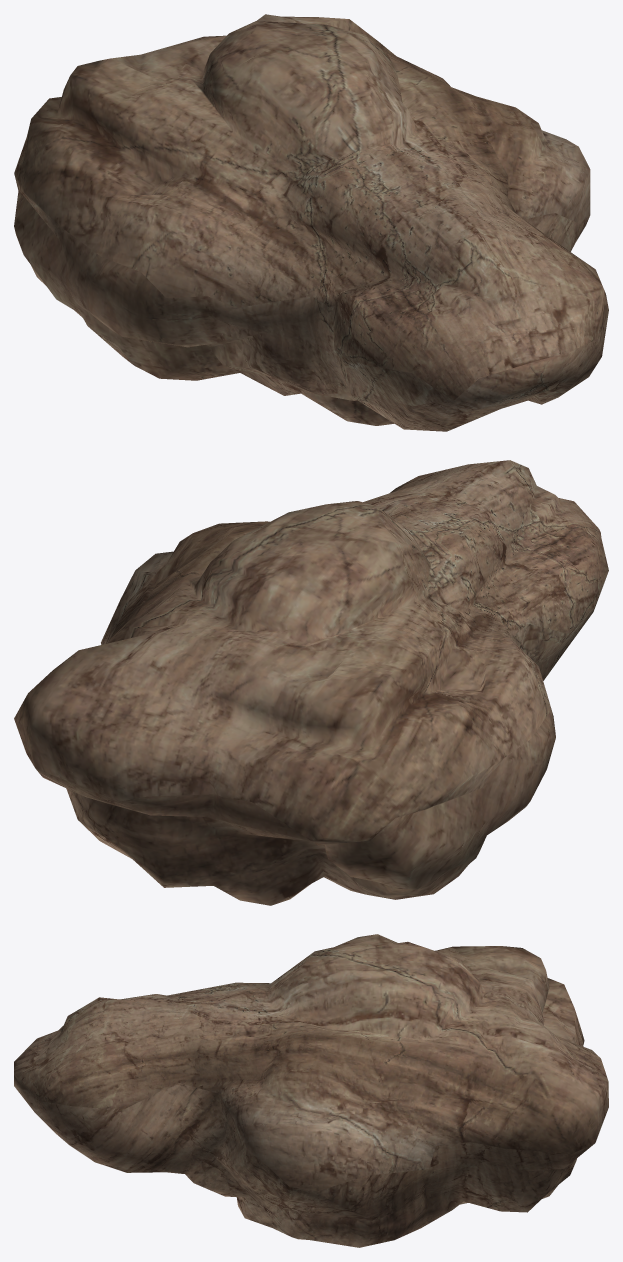
Rendered from rock_small05_projected.dae.
3 renders of one model, top to bottom at view 1: azimuth 30°, elevation 25°; view 2: azimuth 150°, elevation 25°; view 3: azimuth 270°, elevation 25°, orthographic. The views are drawn at different scales.
Parts seen in each view (by area): view 1: Mesh03; view 2: Mesh03; view 3: Mesh03.
Part boxes in pixels (bbox=[...]): Mesh03: bbox=[14, 14, 608, 431]; Mesh03: bbox=[14, 460, 608, 905]; Mesh03: bbox=[14, 934, 608, 1247].
Size of the model in its own units: 3.94 by 2.8 by 5.8.
